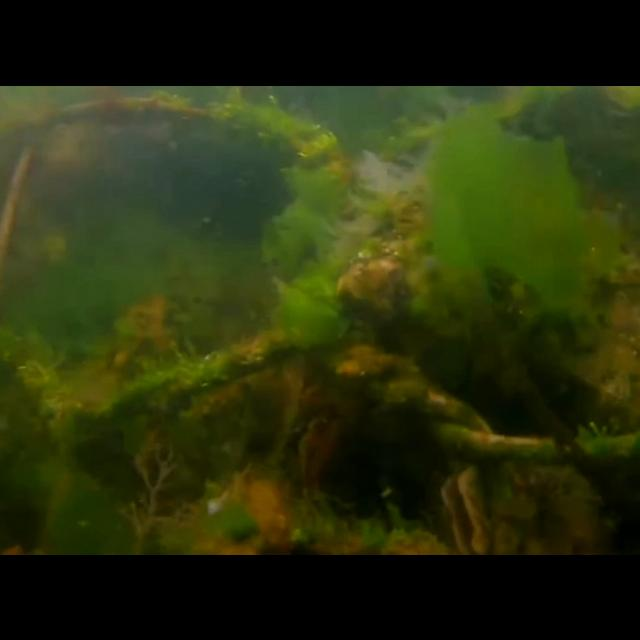Oyster-Open: (272, 358, 344, 502), (435, 462, 495, 554)
